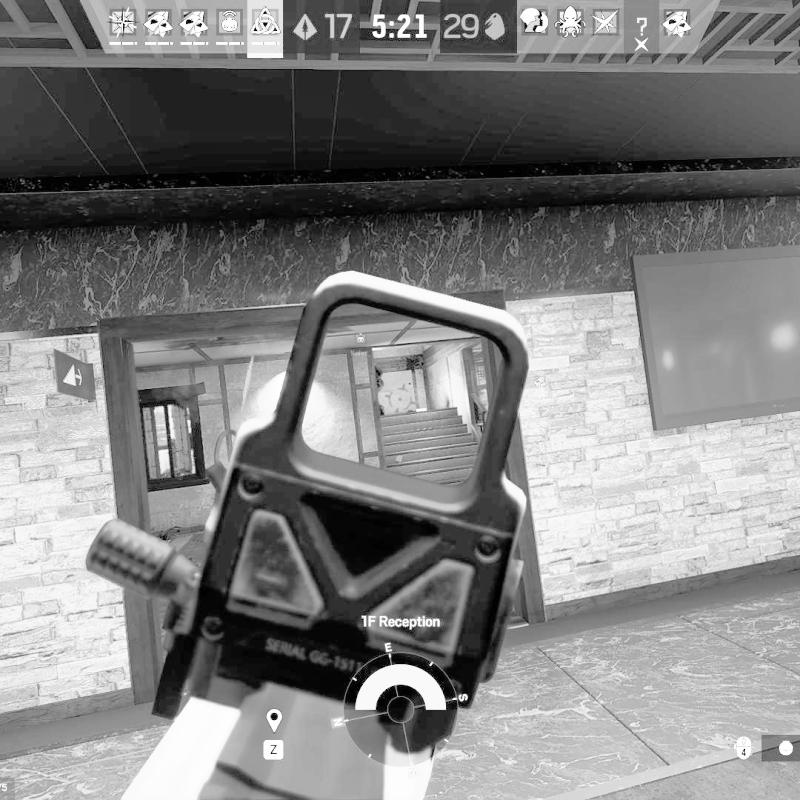Character: (373, 362, 385, 418)
Friend_label: (527, 376, 555, 401), (350, 330, 371, 356)
